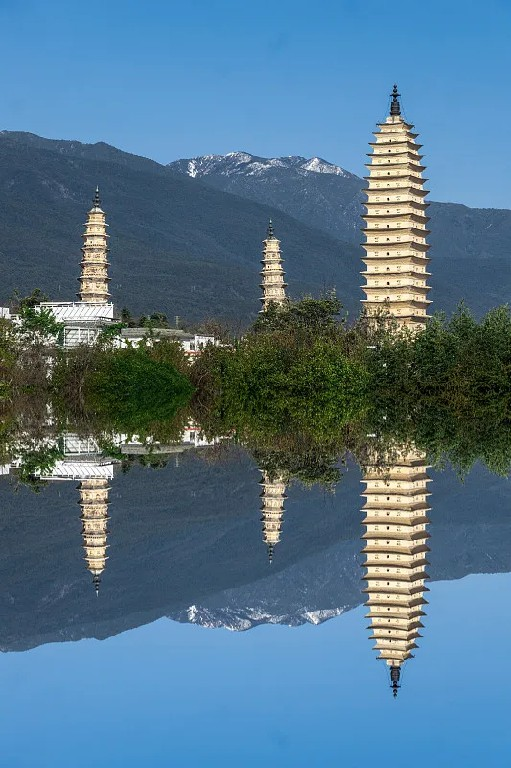ThreePagoda: (361, 81, 434, 328)
